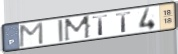4: (138, 6, 158, 31)
I: (56, 19, 65, 44)
M: (63, 14, 92, 43), (18, 21, 45, 48)
T: (91, 14, 110, 37), (115, 11, 133, 34)
